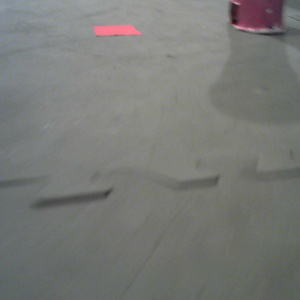right: (227, 1, 293, 35)
